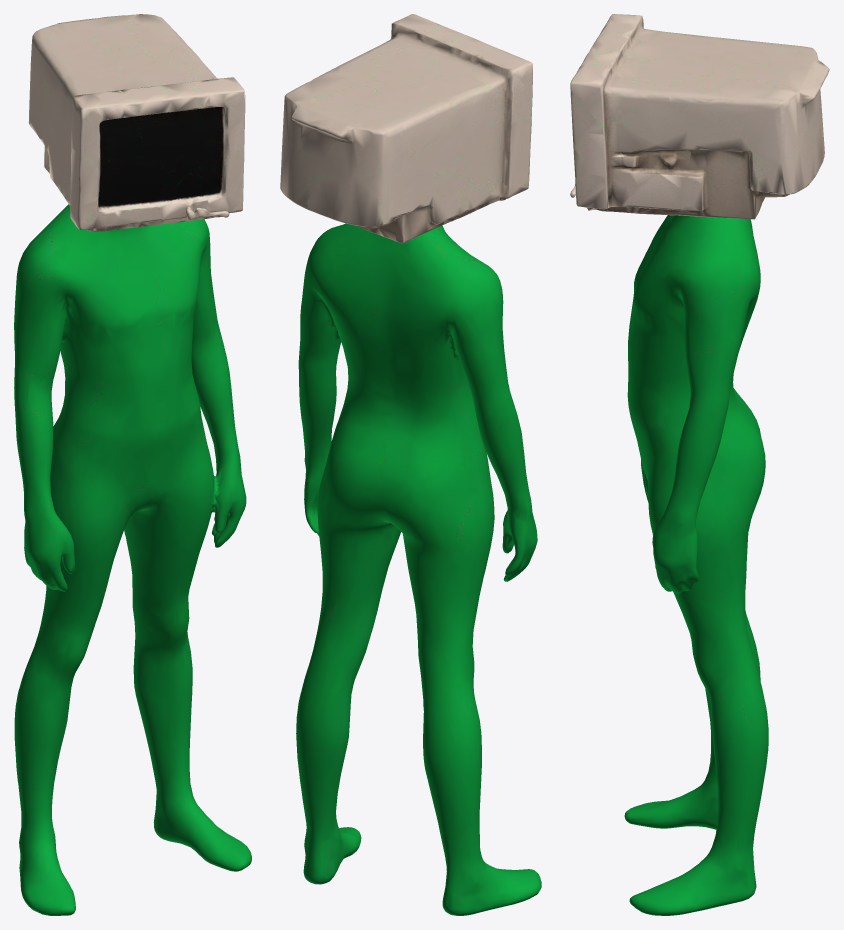
File: worker.glb
3 renders of one model, left to right at view 1: azimuth 30°, elevation 25°; view 2: azimuth 150°, elevation 25°; view 3: azimuth 270°, elevation 25°, orthographic.
Size of the model in its own units: 0.5384 by 1.9 by 0.5481.
1 material, 1 textured.
